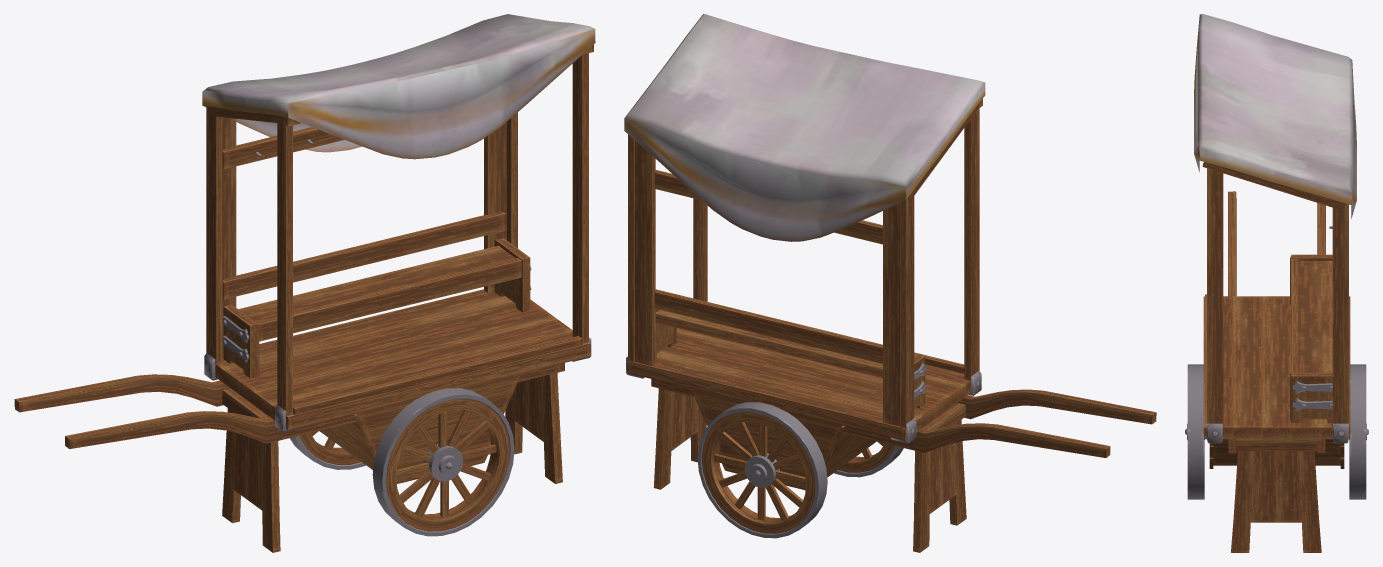
File: stall-qp-stallcartempty.glb
The picture shows the model from 3 angles, left to right: view 1: azimuth 30°, elevation 25°; view 2: azimuth 150°, elevation 25°; view 3: azimuth 270°, elevation 25°; orthographic projection. The views are drawn at different scales.
Parts seen in each view (by area): view 1: Cylinder_094; view 2: Cylinder_094; view 3: Cylinder_094.
Boxes of the visible parts, left/top/right/bottom form: Cylinder_094: left=14, top=14, right=595, bottom=552; Cylinder_094: left=624, top=14, right=1156, bottom=552; Cylinder_094: left=1185, top=14, right=1368, bottom=552.
Bounding box in the file's own units: 3.02 × 2.63 × 1.06.
Materials: 3 (3 with a texture image).
